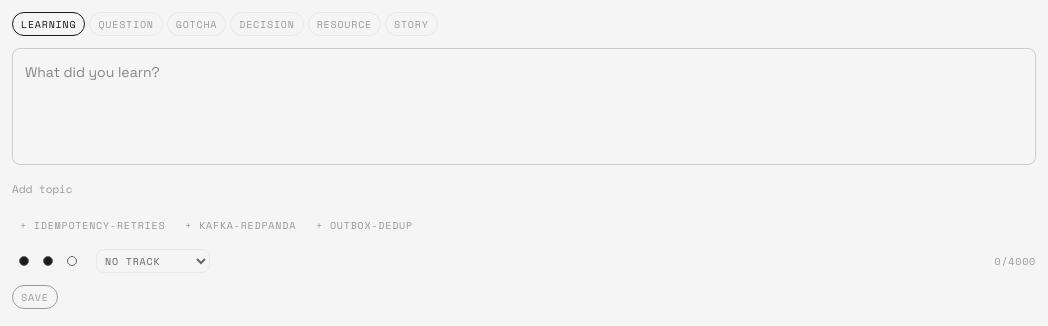
NoteComposer › returns focus to the textarea after a save
Type "Body" into the text box named "Note". click: (524, 106)
box: [12,48,1036,165]
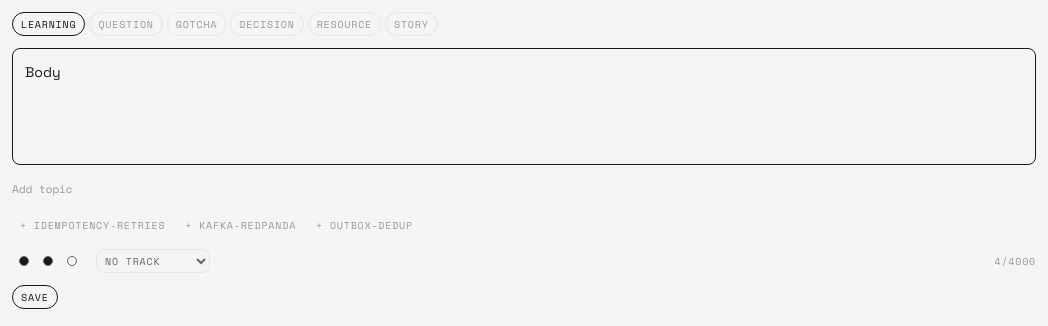
Click the button "SAVE". click: (35, 297)
box: [12,285,58,309]
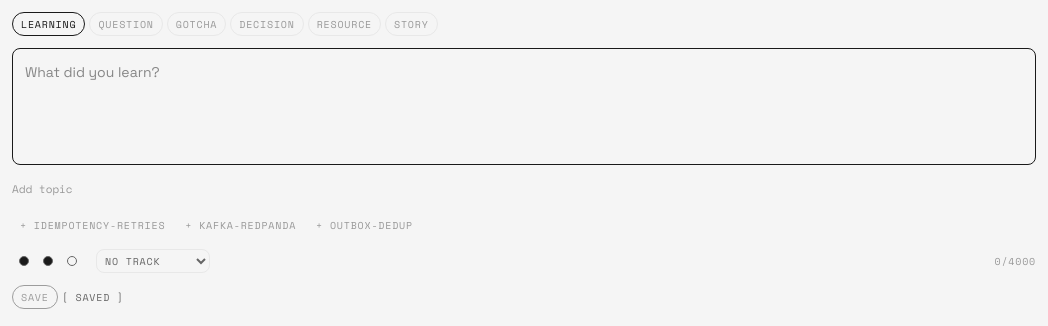
Check: the text "[ SAVED ]" is shown, box [62,290,124,304]
